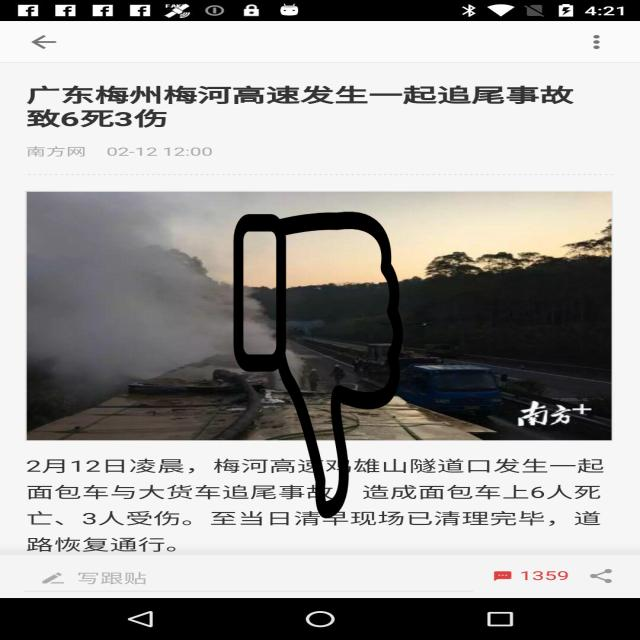obstruction: (231, 212, 405, 518)
